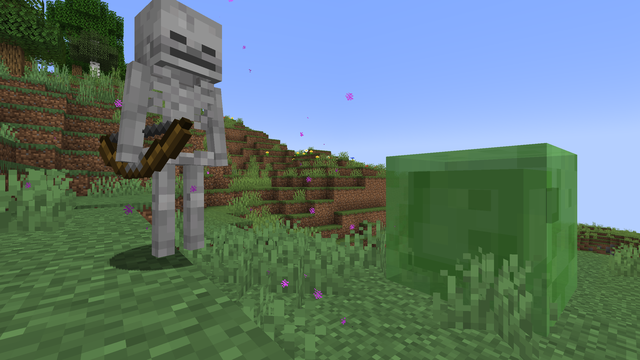slimes: (382, 134, 578, 341)
squelettes: (133, 4, 225, 267)
